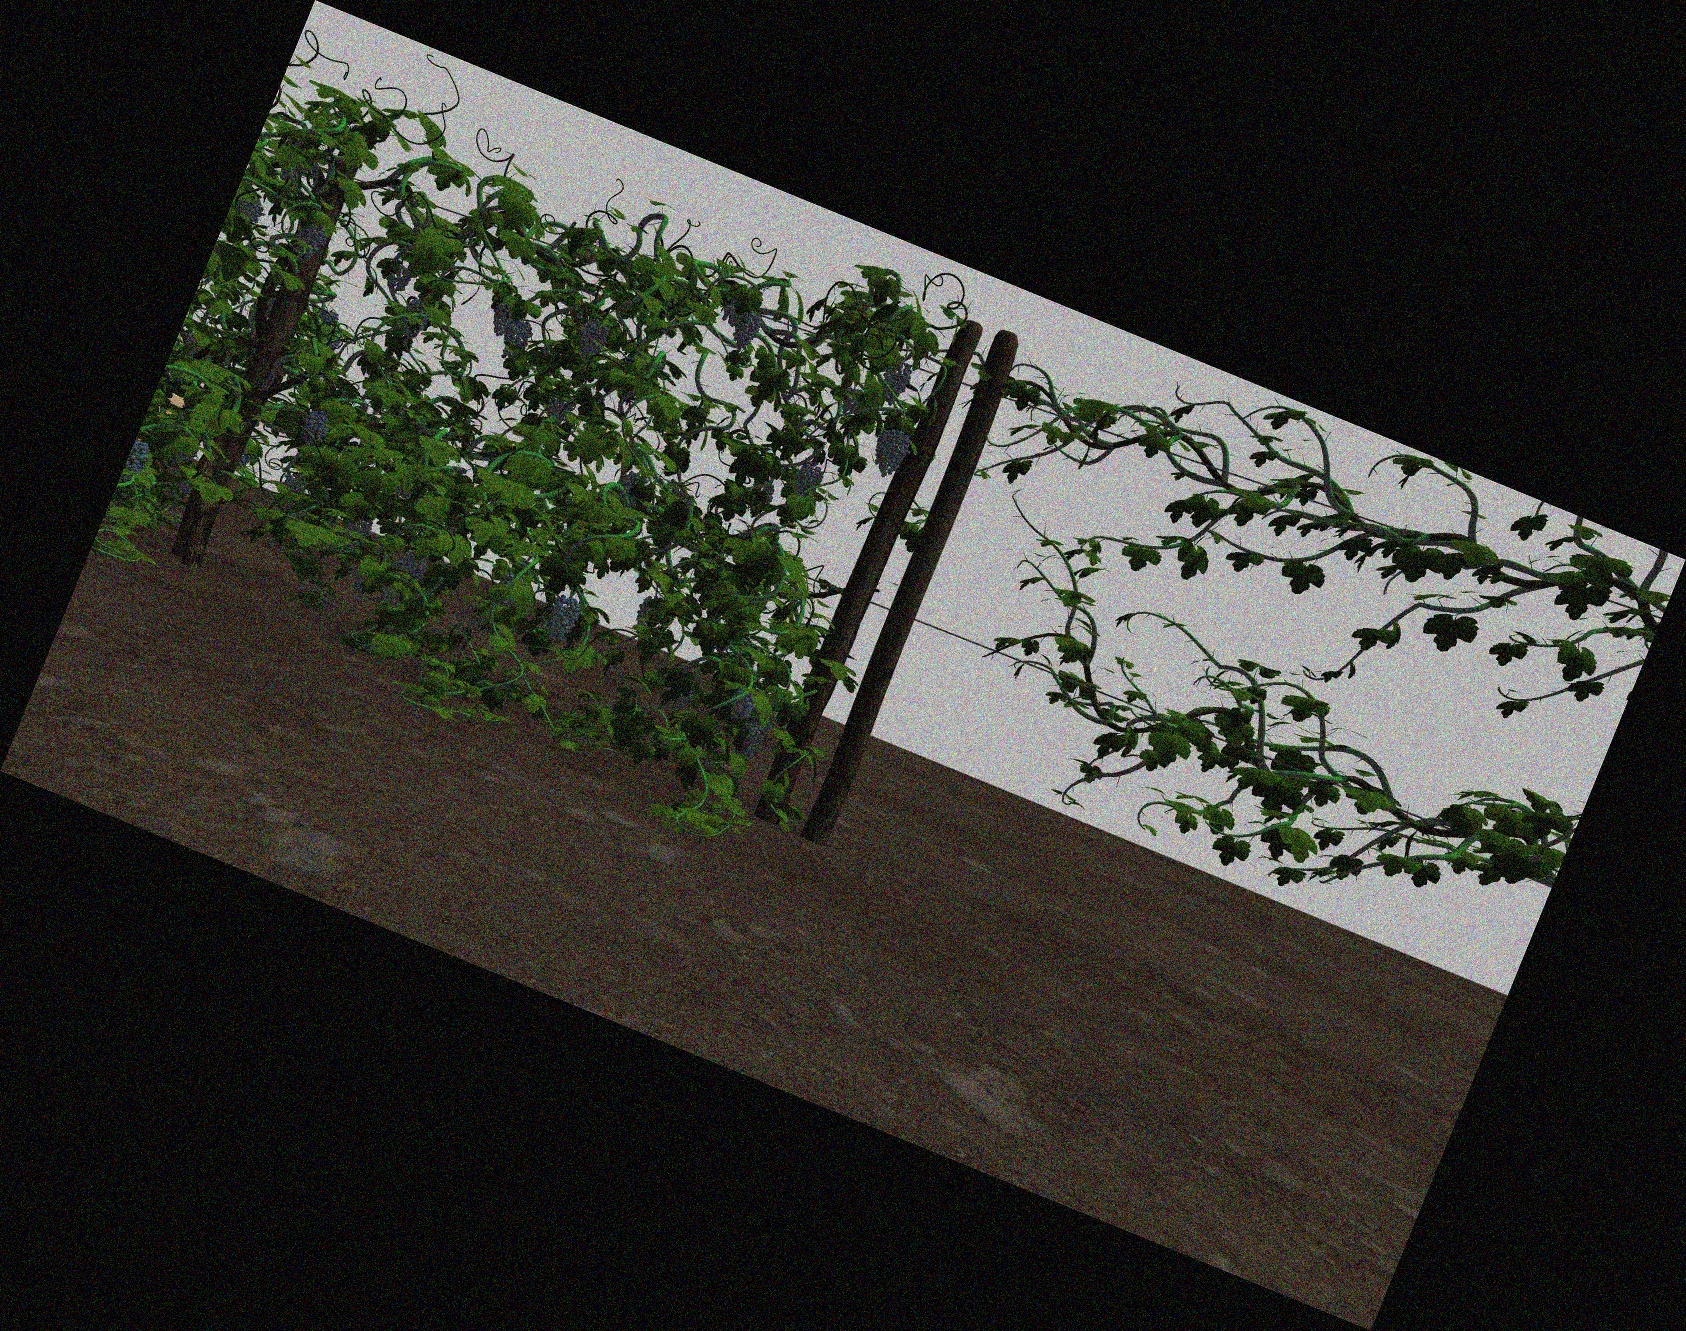grape: (874, 430, 905, 476), (547, 596, 576, 642), (578, 320, 606, 358), (296, 222, 324, 260), (883, 363, 907, 404), (302, 408, 328, 446), (795, 461, 821, 498), (402, 300, 427, 337), (395, 551, 428, 577), (735, 311, 758, 346), (506, 317, 531, 350), (740, 725, 762, 761), (729, 689, 753, 722), (493, 301, 513, 337), (130, 440, 148, 482), (387, 265, 409, 294), (723, 300, 744, 326), (319, 309, 339, 326)
